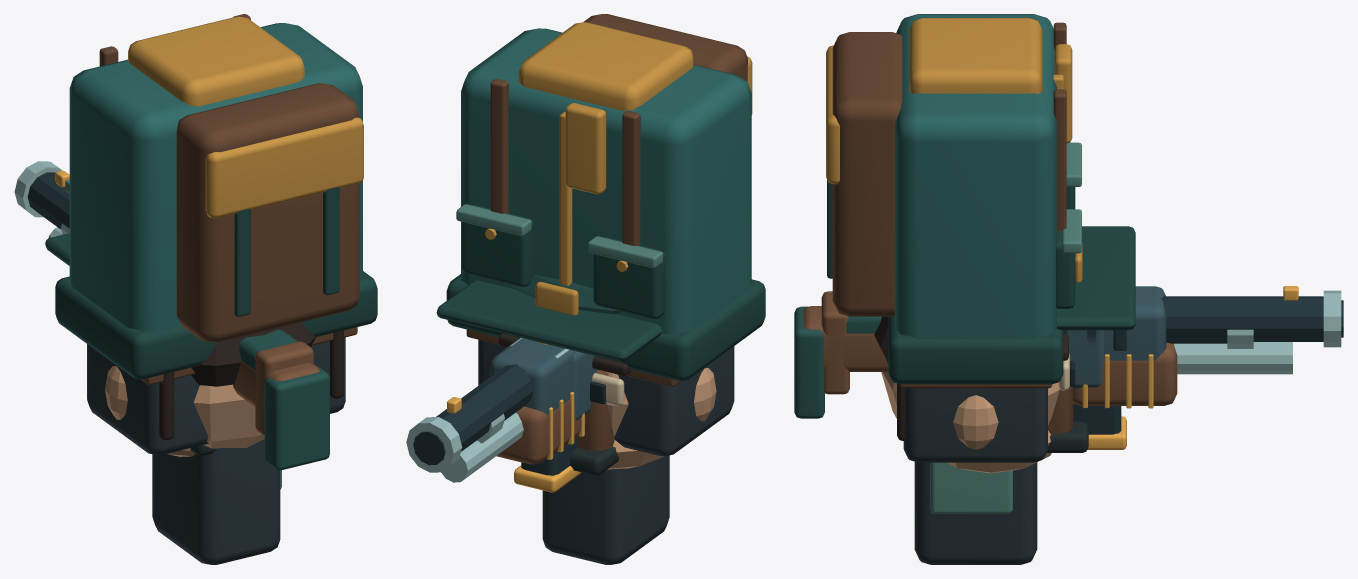
The model's file is hunter-kit.glb.
3 views of the same model, side by side, from view 1: azimuth 30°, elevation 25°; view 2: azimuth 150°, elevation 25°; view 3: azimuth 270°, elevation 25° (orthographic). The views are drawn at different scales.
Visible parts, largest first — view 1: torso-geometry, thigh, shotgun-geometry, head-geometry, hips-geometry, smg-geometry; view 2: torso-geometry, head-geometry, shotgun-geometry, thigh, hips-geometry, smg-geometry, boot; view 3: torso-geometry, shotgun-geometry, thigh, head-geometry, hips-geometry, smg-geometry, boot.
Part boxes in pixels (left/top/right/bottom): torso-geometry: left=55, top=14, right=377, bottom=379; thigh: left=152, top=439, right=281, bottom=564; shotgun-geometry: left=14, top=161, right=329, bottom=470; head-geometry: left=45, top=233, right=343, bottom=456; hips-geometry: left=87, top=327, right=357, bottom=454; smg-geometry: left=61, top=223, right=313, bottom=436; torso-geometry: left=446, top=14, right=765, bottom=380; head-geometry: left=436, top=275, right=716, bottom=469; shotgun-geometry: left=406, top=351, right=597, bottom=482; thigh: left=542, top=455, right=669, bottom=564; hips-geometry: left=466, top=329, right=734, bottom=456; smg-geometry: left=477, top=337, right=581, bottom=492; boot: left=570, top=369, right=618, bottom=475; torso-geometry: left=826, top=14, right=1081, bottom=384; shotgun-geometry: left=794, top=286, right=1343, bottom=418; thigh: left=914, top=462, right=1037, bottom=564; head-geometry: left=874, top=226, right=1135, bottom=473; hips-geometry: left=899, top=384, right=1052, bottom=462; smg-geometry: left=821, top=286, right=1253, bottom=449; boot: left=1046, top=358, right=1088, bottom=452.
Size of the model in its own units: 13.3 by 25.6 by 25.11.
